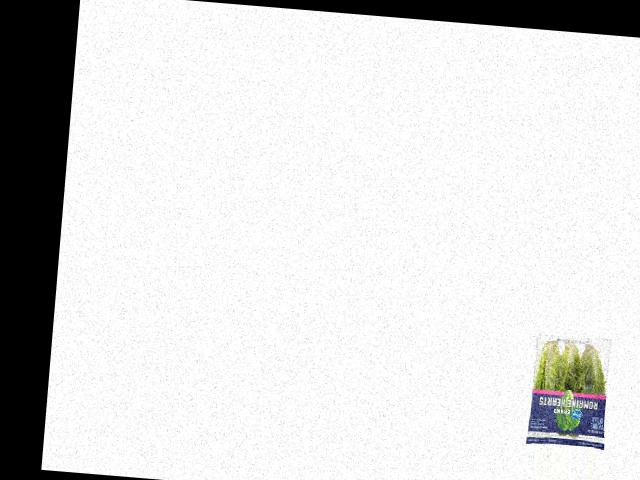lettuce: (522, 335, 615, 448)
